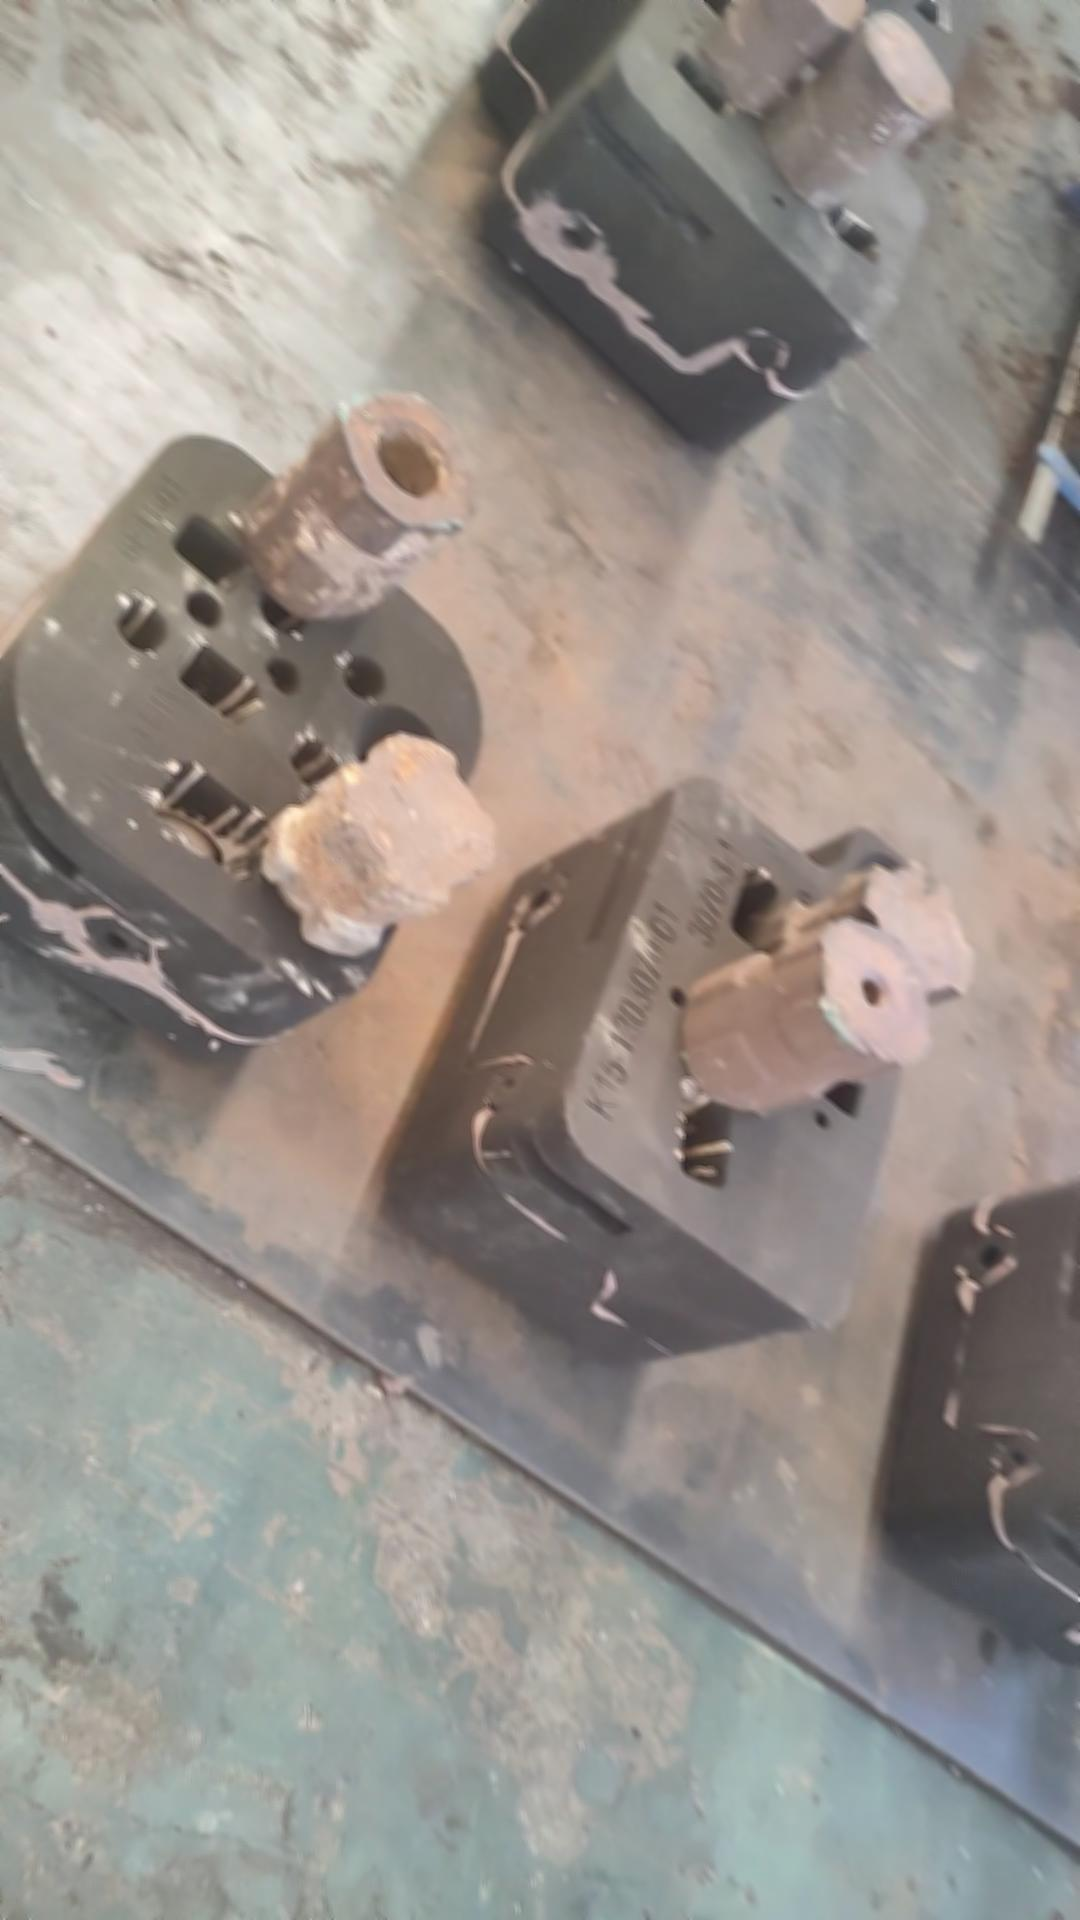pouring hole: (351, 703, 439, 771), (849, 852, 920, 924)
